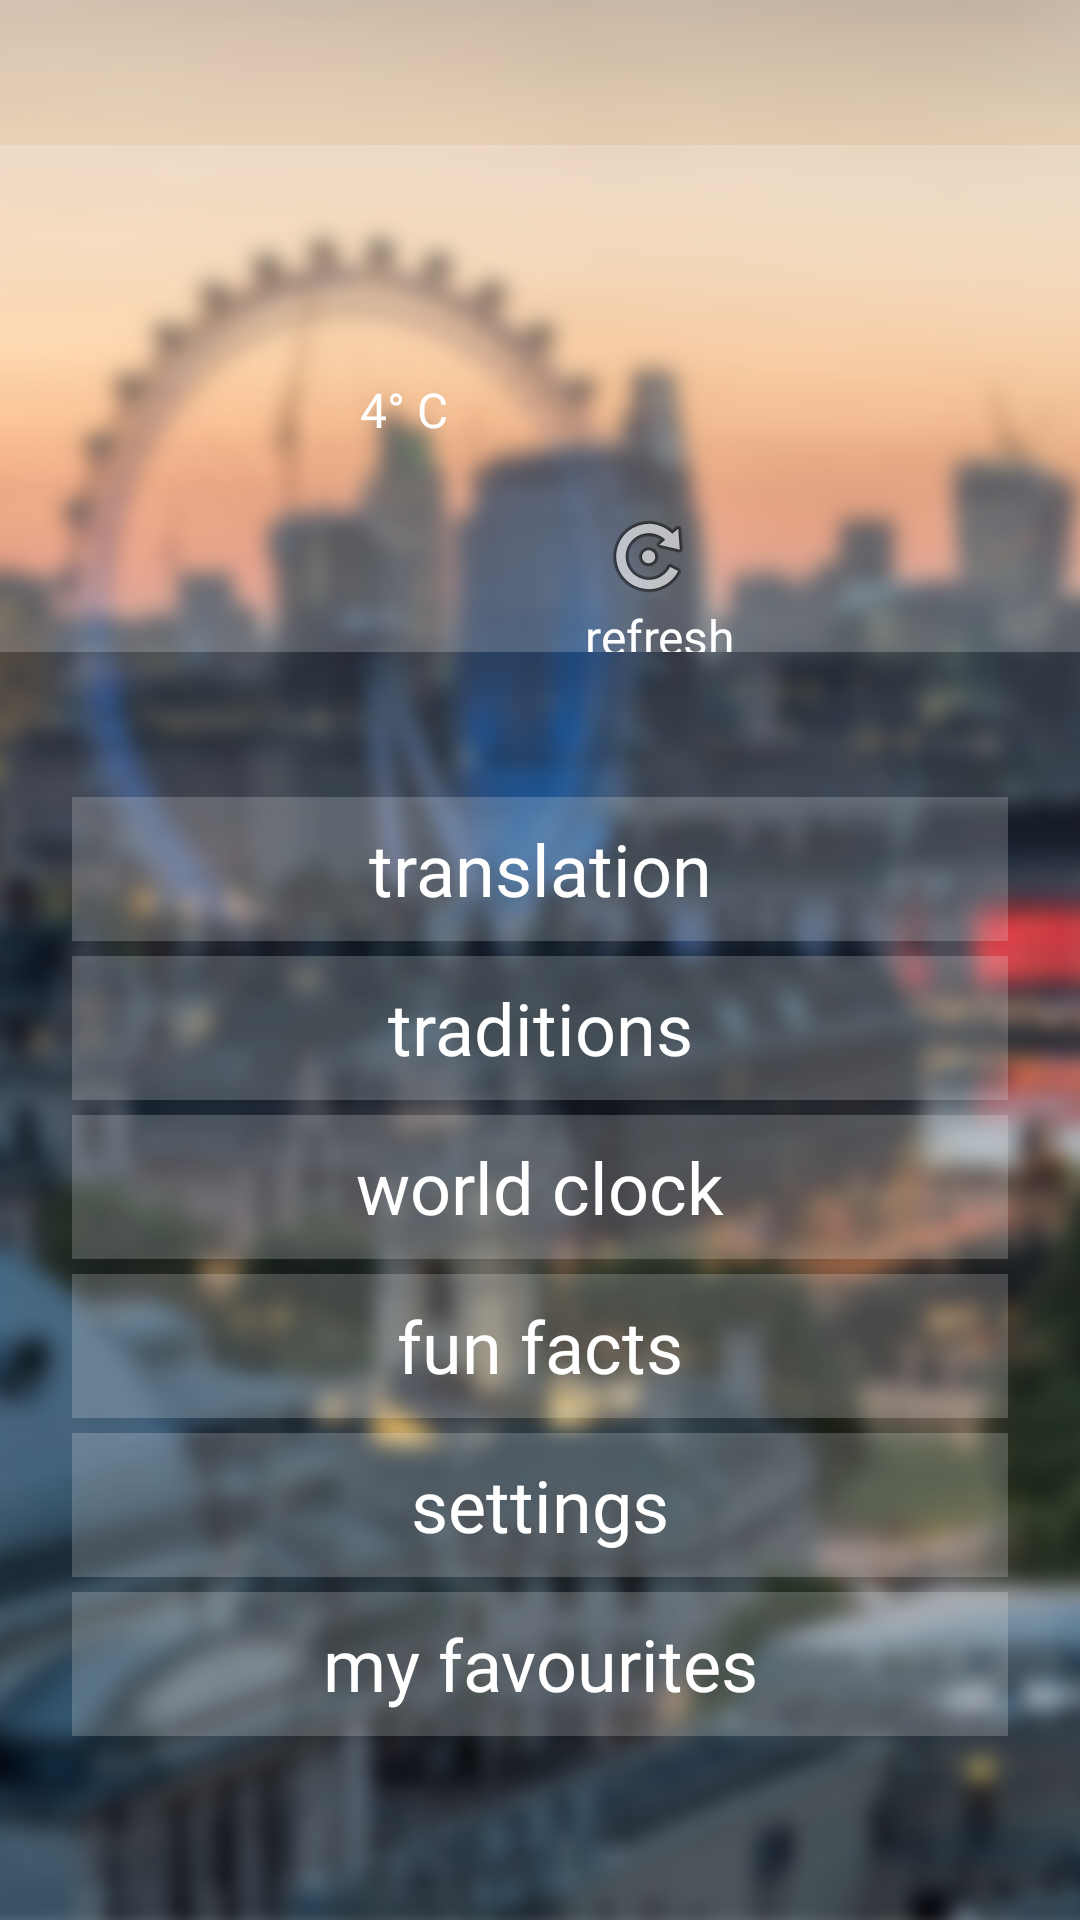

Screen size 1080w x 1920h. Icon name, then its box in pixels as rect(x1, y1, x2, y2):
rotate: rect(613, 521, 683, 592)
